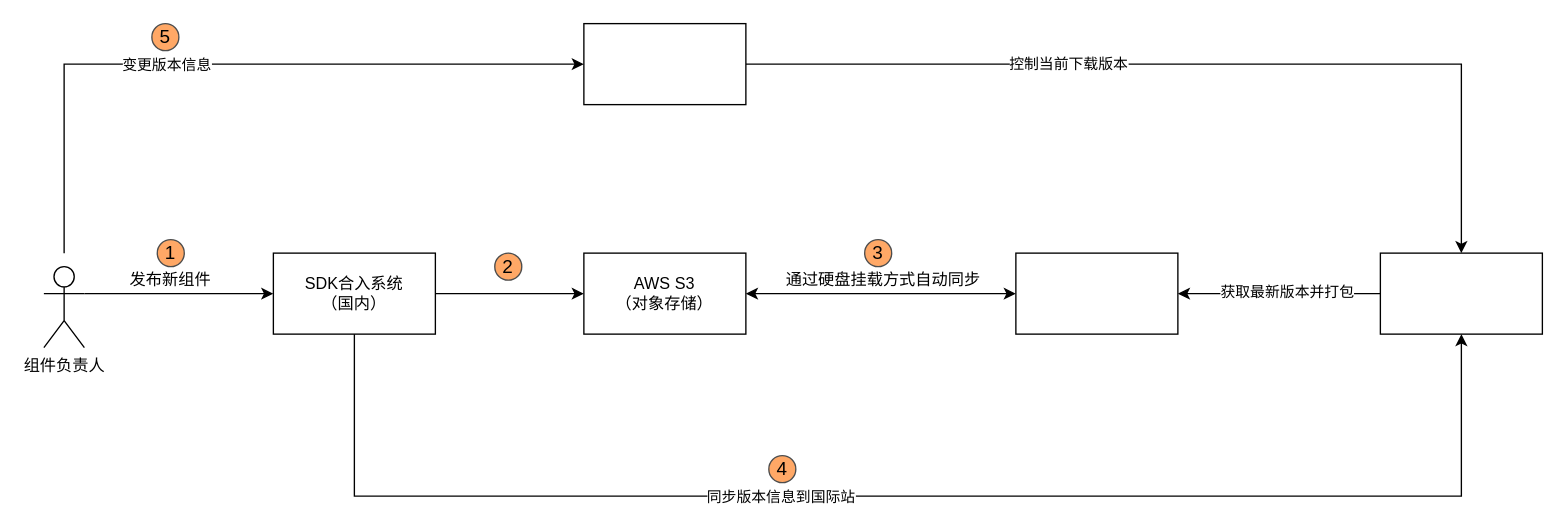
Image size: 1566x531. Some labels were removed from this diagram. Each missing label, with the box of its shape:
下载页国际站 （新加坡）: (1379, 252, 1542, 334)
国际站AWS服务器: (1015, 252, 1178, 334)
国际站下载页管理后台: (583, 22, 746, 105)
